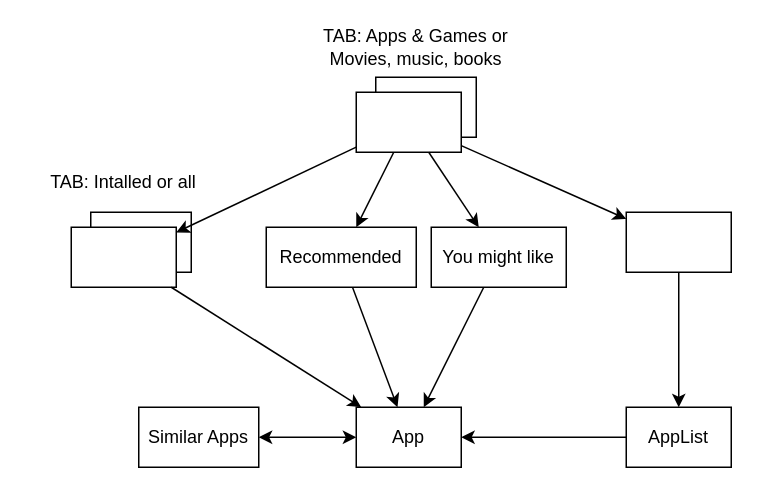
Image size: 758x494. Some labels were removed from this diagram. The shapes that lost their labels are listed below. From the top down, each one's centre as x and y in pixels, then its label:
(408,121): HOME
(123,256): MyApps
(678,241): Search
